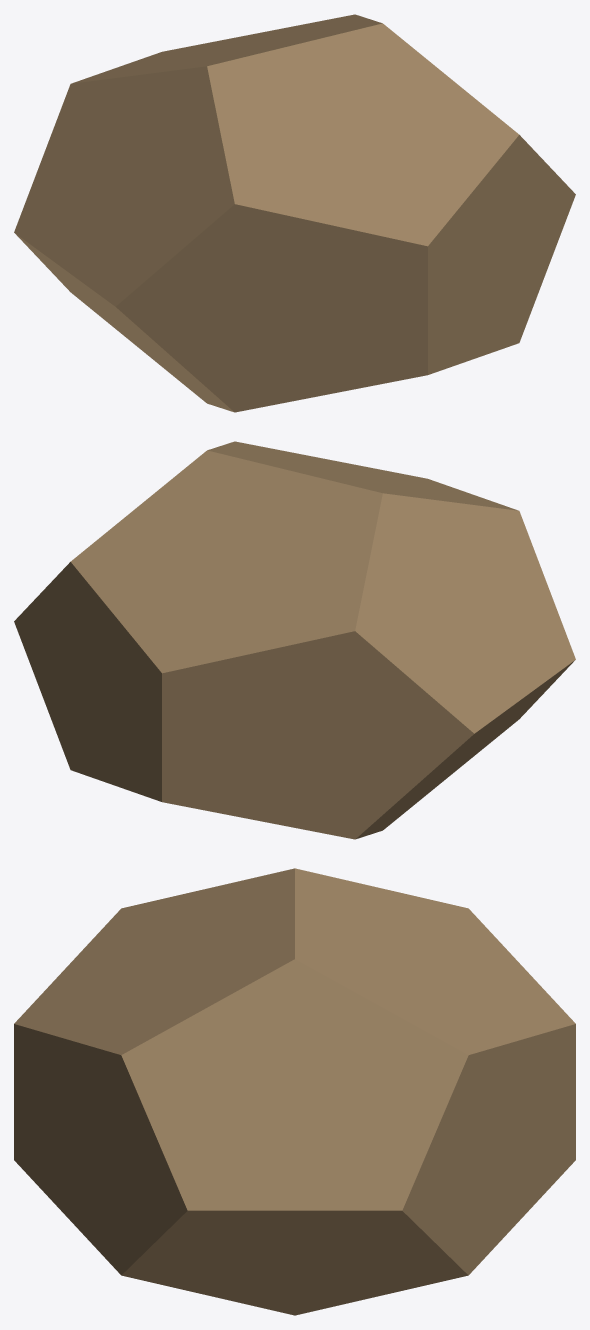
File: rock.glb
The picture shows the model from 3 angles, top to bottom: view 1: azimuth 30°, elevation 25°; view 2: azimuth 150°, elevation 25°; view 3: azimuth 270°, elevation 25°; orthographic projection. The views are drawn at different scales.
Visible parts, largest first — view 1: rock; view 2: rock; view 3: rock.
Boxes of the visible parts, x1,y1,x2,y2 form: rock: [14, 14, 575, 412]; rock: [14, 441, 575, 839]; rock: [14, 868, 575, 1315].
Bounding box in the file's own units: 1.87 × 1.31 × 1.87.
